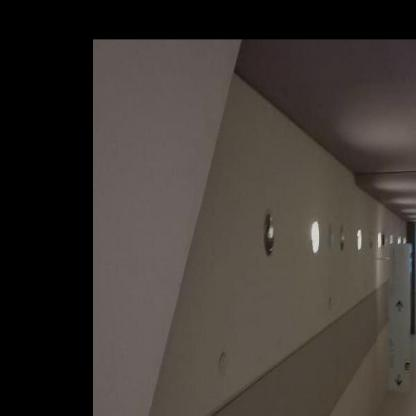light_off: (252, 203, 284, 263), (333, 217, 348, 261)
